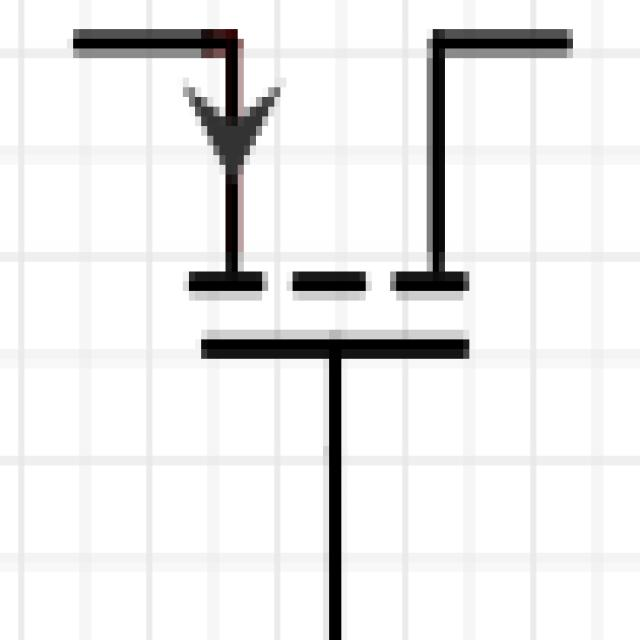pmos: (65, 0, 575, 640)
